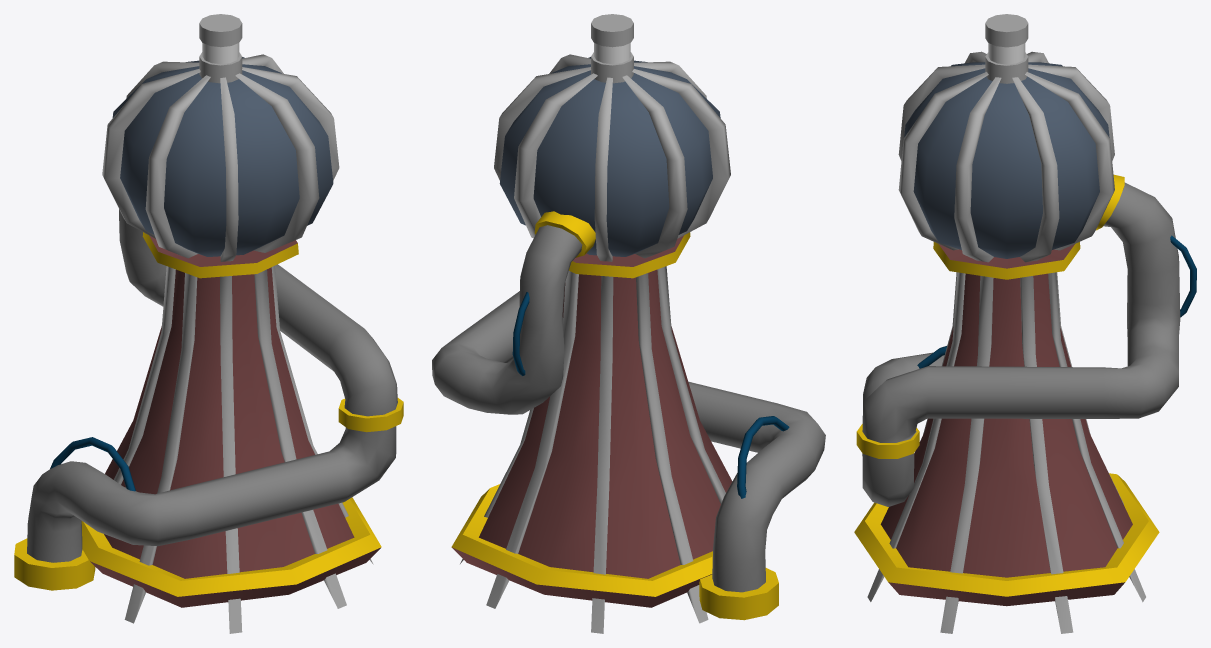
Rendered from Water_Generator.fbx.
3 renders of one model, left to right at view 1: azimuth 30°, elevation 25°; view 2: azimuth 150°, elevation 25°; view 3: azimuth 270°, elevation 25°, orthographic.
Visible parts, largest first — view 1: Water_Generator1, Glass; view 2: Water_Generator1, Glass; view 3: Water_Generator1, Glass.
Part boxes in pixels (x1=…): Water_Generator1: x1=14, y1=14, x2=403, y2=633; Glass: x1=112, y1=57, x2=333, y2=256; Water_Generator1: x1=432, y1=14, x2=825, y2=633; Glass: x1=499, y1=57, x2=720, y2=256; Water_Generator1: x1=854, y1=14, x2=1196, y2=633; Glass: x1=904, y1=62, x2=1109, y2=258.
Bounding box in the file's own units: 84.38 × 141 × 79.76.
